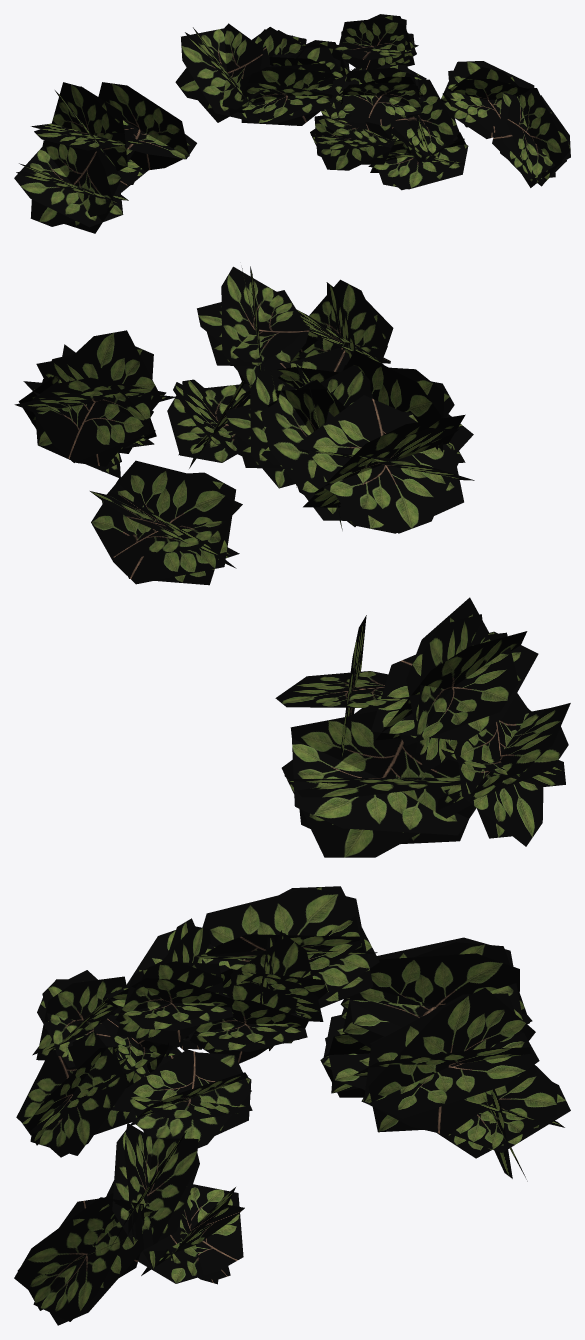
The model's file is leave.fbx.
The picture shows the model from 3 angles, top to bottom: view 1: azimuth 30°, elevation 25°; view 2: azimuth 150°, elevation 25°; view 3: azimuth 270°, elevation 25°; orthographic projection. The views are drawn at different scales.
Visible parts, largest first — view 1: Plane043, Plane024, Plane013, Plane042, Plane059, Plane031, Plane082, Plane094, Plane050, Plane078, Plane090, Plane089 (+43 smaller); view 2: Plane026, Plane067, Plane044, Plane100, Plane031, Plane045, Plane064, Plane077, Plane080, Plane081, Plane017, Plane041 (+36 smaller); view 3: Plane079, Plane085, Plane095, Plane097, Plane043, Plane058, Plane039, Plane028, Plane076, Plane098, Plane072, Plane075 (+46 smaller).
Boxes of the visible parts, x1,y1,x2,y2 form: Plane043: [98, 82, 189, 170]; Plane024: [14, 147, 123, 227]; Plane013: [181, 28, 247, 120]; Plane042: [42, 140, 114, 233]; Plane059: [51, 82, 127, 171]; Plane031: [198, 23, 263, 122]; Plane082: [371, 129, 466, 190]; Plane094: [522, 88, 562, 187]; Plane050: [238, 66, 333, 125]; Plane078: [30, 149, 121, 226]; Plane090: [404, 79, 453, 163]; Plane089: [339, 18, 414, 66]; Plane026: [292, 738, 476, 835]; Plane067: [313, 411, 459, 533]; Plane044: [290, 711, 474, 844]; Plane100: [101, 460, 234, 585]; Plane031: [302, 395, 463, 533]; Plane045: [33, 346, 153, 462]; Plane064: [91, 472, 235, 584]; Plane077: [399, 632, 518, 745]; Plane080: [281, 708, 471, 857]; Plane081: [34, 330, 161, 466]; Plane017: [221, 266, 290, 385]; Plane041: [371, 631, 538, 741]; Plane079: [368, 988, 535, 1132]; Plane085: [202, 887, 373, 1008]; Plane095: [340, 953, 519, 1010]; Plane097: [361, 1032, 539, 1118]; Plane043: [364, 993, 537, 1135]; Plane058: [17, 1199, 153, 1310]; Plane039: [125, 1049, 251, 1136]; Plane028: [138, 1184, 243, 1283]; Plane076: [33, 1193, 137, 1321]; Plane098: [436, 1065, 557, 1158]; Plane072: [30, 1031, 115, 1155]; Plane075: [127, 1052, 251, 1148].
Bounding box in the file's own units: 646 × 322 × 471.
